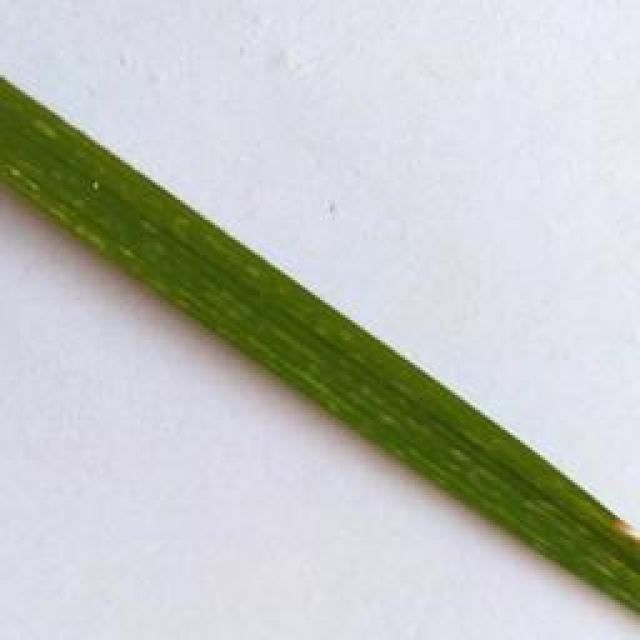Healthy-Plant: (0, 64, 640, 612)
